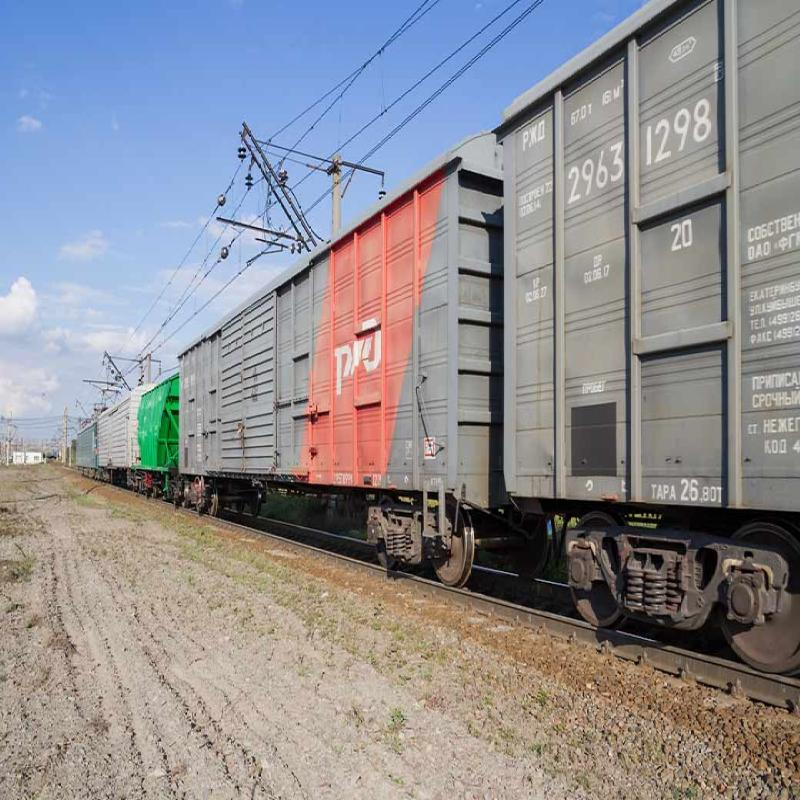train: (483, 41, 800, 672), (178, 142, 488, 612)
